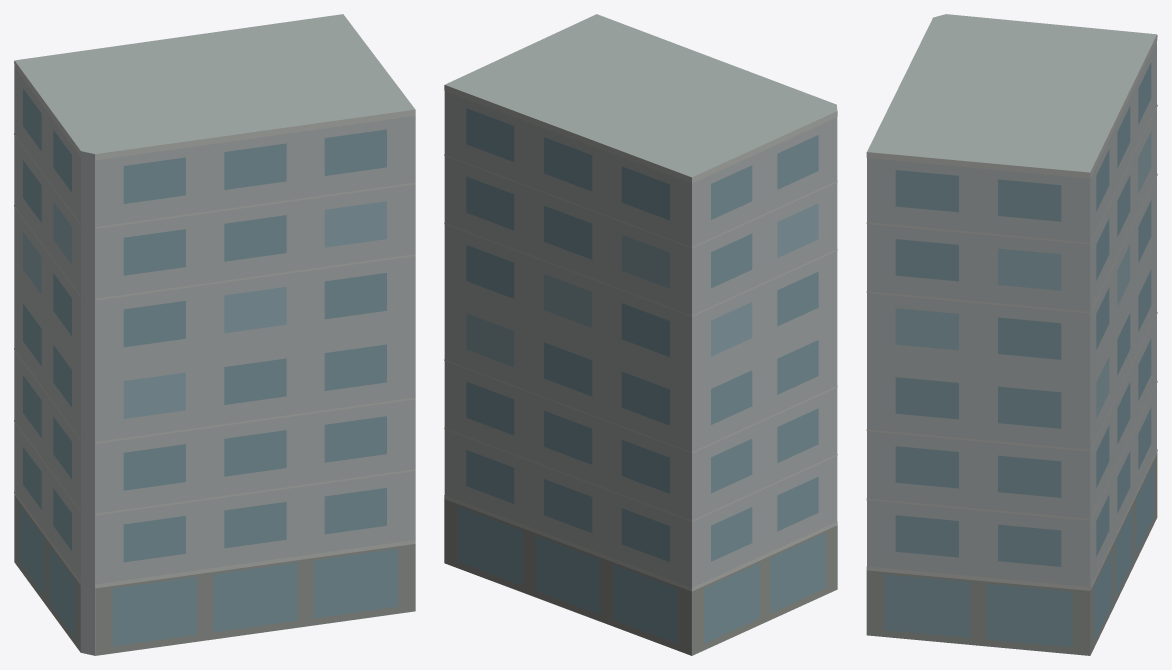
File: survey-upis-32663399.glb
3 renders of one model, left to right at view 1: azimuth 30°, elevation 25°; view 2: azimuth 150°, elevation 25°; view 3: azimuth 270°, elevation 25°, orthographic. The views are drawn at different scales.
Parts seen in each view (by area): view 1: survey-upis-32663399.tmp; view 2: survey-upis-32663399.tmp; view 3: survey-upis-32663399.tmp.
Part boxes in pixels (x1,y1,x2,y2): survey-upis-32663399.tmp: (14,14,415,655); survey-upis-32663399.tmp: (444,14,837,655); survey-upis-32663399.tmp: (866,14,1157,655).
Size of the model in its own units: 13.78 by 19.55 by 10.67.
